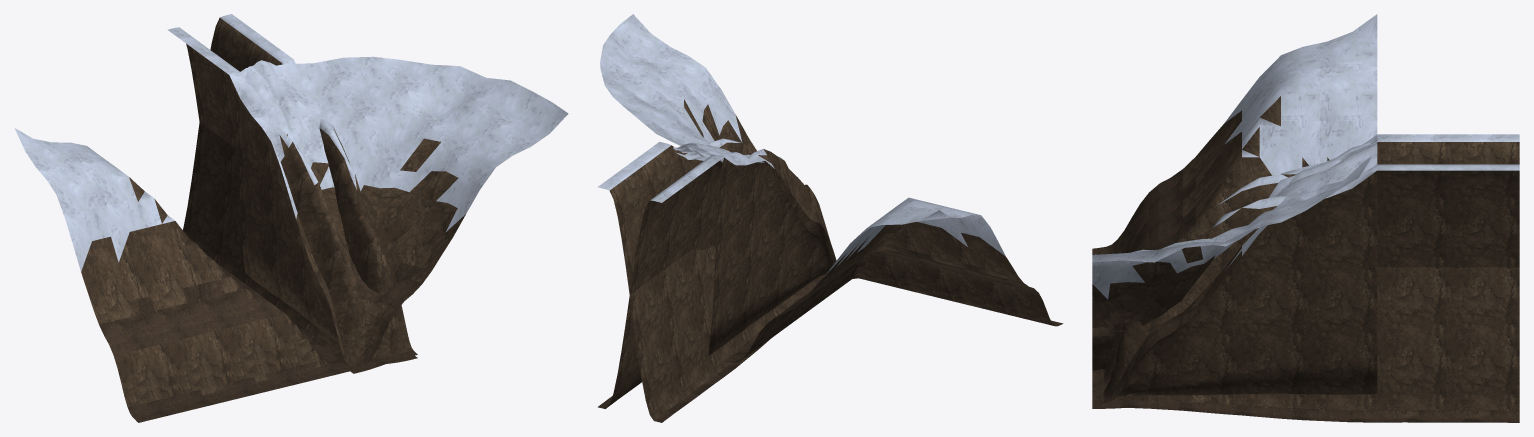
The model's file is bk_mountain_dead.glb.
3 views of the same model, side by side, from view 1: azimuth 30°, elevation 25°; view 2: azimuth 150°, elevation 25°; view 3: azimuth 270°, elevation 25° (orthographic). The views are drawn at different scales.
Parts seen in each view (by area): view 1: corner_inner, corner_outer, endcap_sea_to_land, pass12, endcap_land_to_sea, straight12_a, straight12_c, straight6, straight12_b; view 2: endcap_sea_to_land, corner_inner, pass12, corner_outer, endcap_land_to_sea; view 3: endcap_land_to_sea, pass12, corner_inner, endcap_sea_to_land, corner_outer, straight12_a, straight12_b, straight12_c.
Boxes of the visible parts, x1,y1,x2,y2 form: corner_inner: (14,128,353,422); corner_outer: (238,56,568,370); endcap_sea_to_land: (183,14,412,373); pass12: (229,76,417,369); endcap_land_to_sea: (167,27,417,366); straight12_a: (239,60,416,368); straight12_c: (244,62,322,149); straight6: (229,73,337,331); straight12_b: (234,72,396,360); endcap_sea_to_land: (597,138,825,422); corner_inner: (724,197,1063,362); pass12: (708,157,833,355); corner_outer: (600,14,756,162); endcap_land_to_sea: (598,149,836,408); endcap_land_to_sea: (1092,134,1519,422); pass12: (1092,171,1377,405); corner_inner: (1092,14,1377,336); endcap_sea_to_land: (1103,164,1519,403); corner_outer: (1092,139,1376,373); straight12_a: (1093,140,1377,404); straight12_b: (1103,136,1377,393); straight12_c: (1111,141,1377,398).
Bounding box in the file's own units: 80 × 40.34 × 60.
3 materials, 3 textured.
